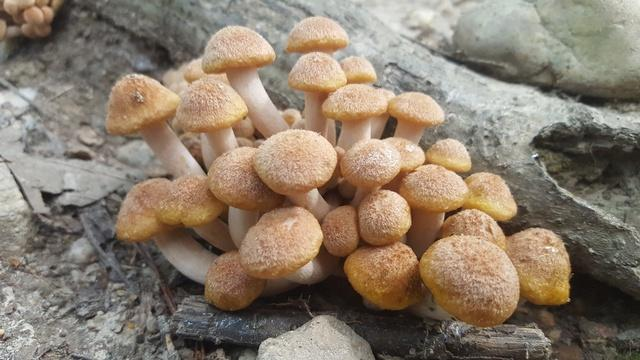Edible Mushroom: (105, 15, 572, 327)
